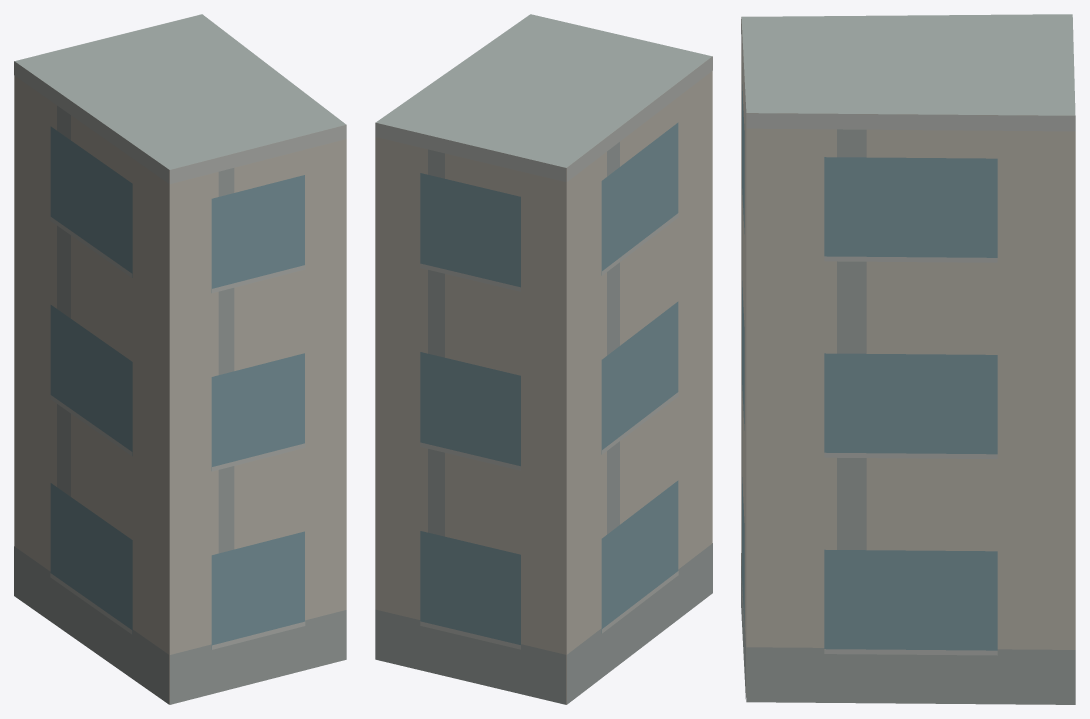
File: survey-upis-32924252.glb
3 renders of one model, left to right at view 1: azimuth 30°, elevation 25°; view 2: azimuth 150°, elevation 25°; view 3: azimuth 270°, elevation 25°, orthographic. The views are drawn at different scales.
Visible parts, largest first — view 1: survey-upis-32924252.tmp; view 2: survey-upis-32924252.tmp; view 3: survey-upis-32924252.tmp.
Boxes of the visible parts, left/top/right/bottom form: survey-upis-32924252.tmp: left=14, top=14, right=346, bottom=704; survey-upis-32924252.tmp: left=375, top=14, right=712, bottom=704; survey-upis-32924252.tmp: left=741, top=14, right=1075, bottom=704.
Bounding box in the file's own units: 3.4 × 9.15 × 4.71.
